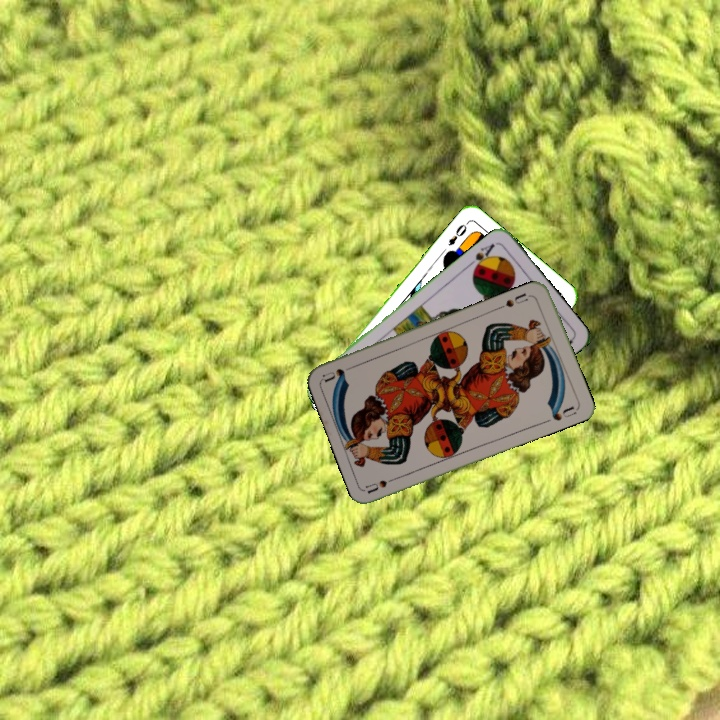EO: (444, 218, 471, 249)
SA: (464, 239, 498, 274)
SU: (363, 472, 403, 496), (501, 289, 530, 310)
